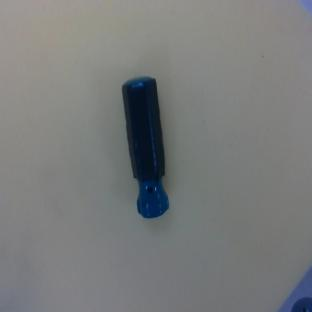part_2_bad: (120, 75, 171, 218)
